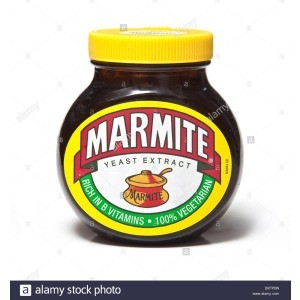yeast spread_brain food: (57, 74, 238, 211)
